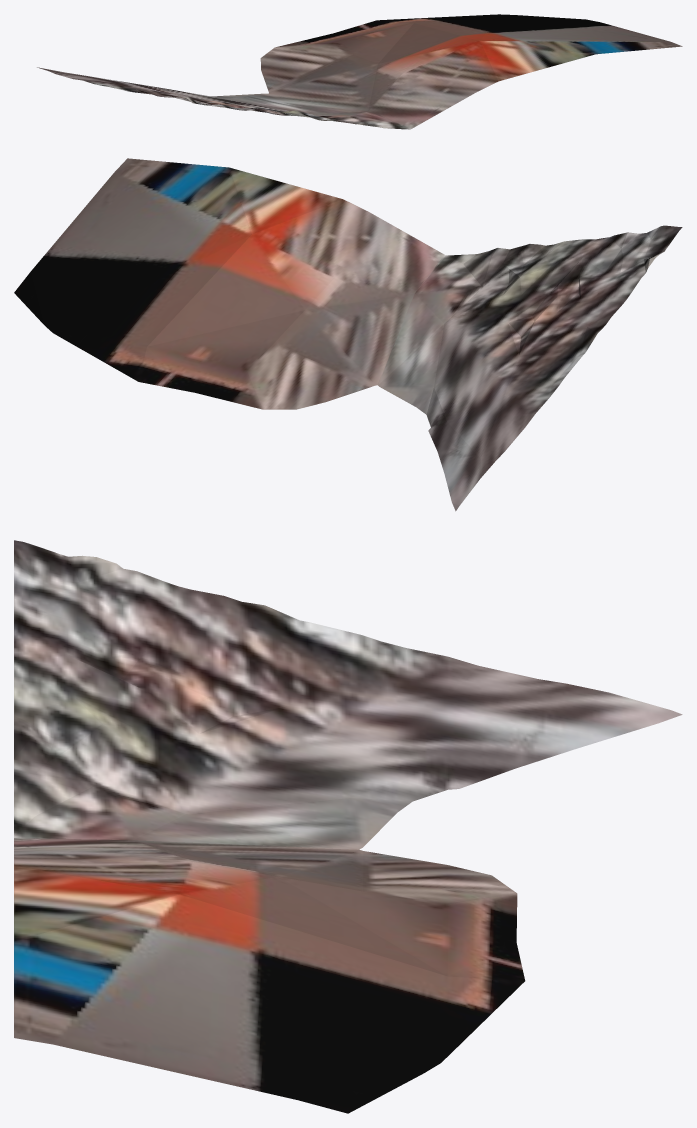
The picture shows the model from 3 angles, top to bottom: view 1: azimuth 30°, elevation 25°; view 2: azimuth 150°, elevation 25°; view 3: azimuth 270°, elevation 25°; orthographic projection. The views are drawn at different scales.
Bounding box in the file's own units: 3.35 × 0.6824 × 2.37.
1 material, 1 textured.
